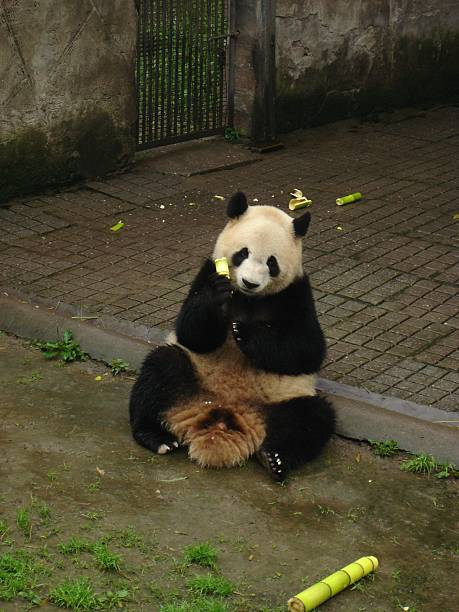panda: (200, 177, 330, 317)
